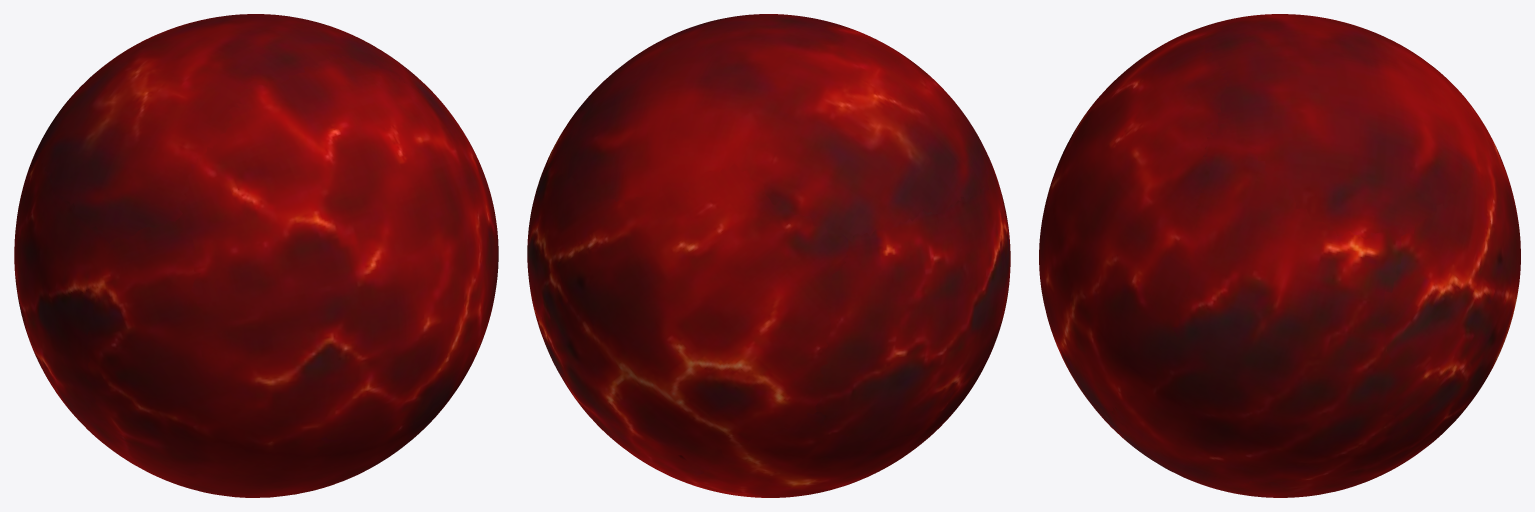
Rendered from ball.glb.
3 views of the same model, side by side, from view 1: azimuth 30°, elevation 25°; view 2: azimuth 150°, elevation 25°; view 3: azimuth 270°, elevation 25° (orthographic).
Parts seen in each view (by area): view 1: material; view 2: material; view 3: material.
Boxes of the visible parts, <box> form: material: <box>14,14,498,497</box>; material: <box>527,14,1010,497</box>; material: <box>1039,14,1520,497</box>.
Bounding box in the file's own units: 1.19 × 1.19 × 1.18.
1 material, 1 textured.
